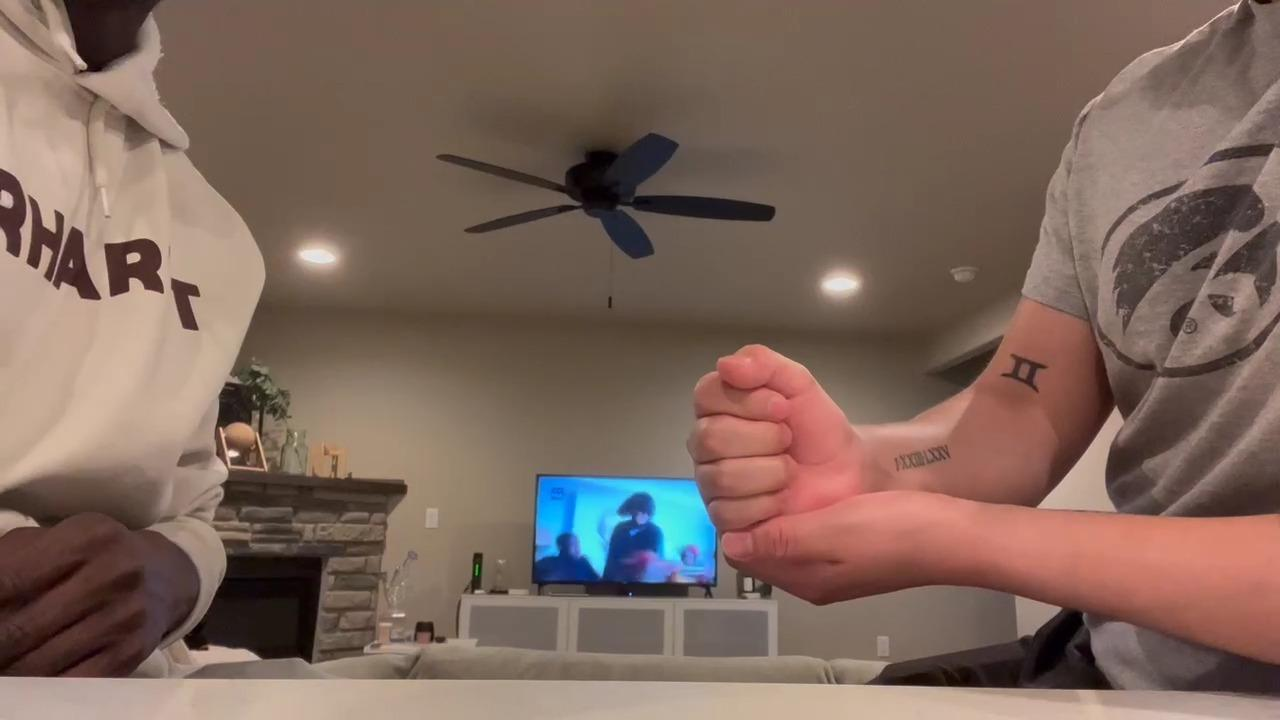Rock: (677, 343, 856, 529)
